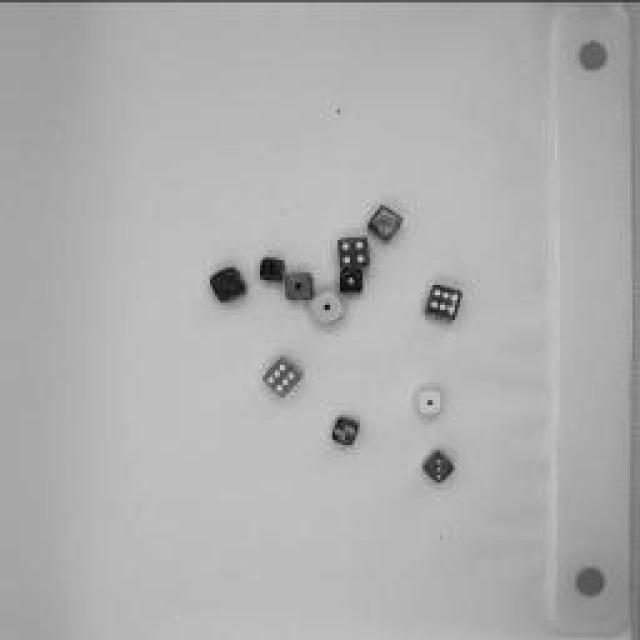dice_1: (308, 286, 350, 329), (284, 271, 316, 304), (336, 265, 366, 300), (415, 385, 447, 417)
dice_2: (366, 203, 406, 245), (330, 414, 362, 448)
dice_3: (209, 265, 251, 310), (419, 446, 456, 486)
dice_4: (336, 235, 374, 270)
dice_6: (259, 351, 306, 399), (420, 282, 465, 328), (258, 254, 290, 286)
